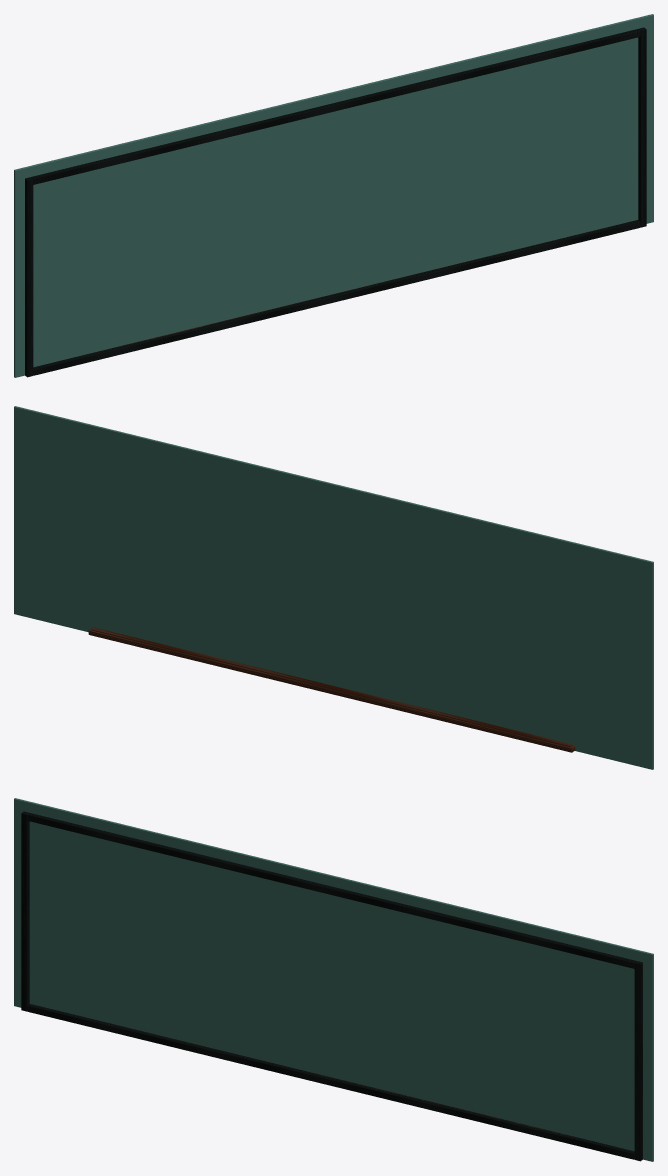
The model's file is giant-screen-surround.glb.
3 views of the same model, one above another, from view 1: azimuth 30°, elevation 25°; view 2: azimuth 150°, elevation 25°; view 3: azimuth 330°, elevation 25° (orthographic).
Parts seen in each view (by area): view 1: Screen_AcousticBacker, Screen_Frame_Top, Screen_Frame_Bottom, Screen_Frame_Left, Screen_Frame_Right; view 2: Screen_AcousticBacker, Screen_Low_Console, Screen_Low_Console_Top; view 3: Screen_AcousticBacker, Screen_Frame_Top, Screen_Frame_Bottom, Screen_Frame_Right, Screen_Frame_Left.
Boxes of the visible parts, box(x1,y1,x2,y2) form: Screen_AcousticBacker: box(14, 14, 653, 377); Screen_Frame_Top: box(31, 29, 640, 184); Screen_Frame_Bottom: box(33, 220, 640, 375); Screen_Frame_Left: box(25, 177, 33, 377); Screen_Frame_Right: box(638, 27, 646, 227); Screen_AcousticBacker: box(14, 406, 653, 769); Screen_Low_Console: box(88, 628, 575, 752); Screen_Low_Console_Top: box(91, 627, 572, 746); Screen_AcousticBacker: box(14, 798, 653, 1161); Screen_Frame_Top: box(27, 813, 636, 968); Screen_Frame_Bottom: box(27, 1004, 634, 1159); Screen_Frame_Right: box(634, 961, 642, 1161); Screen_Frame_Left: box(21, 811, 29, 1011).
Size of the model in its own units: 52.2 by 16.2 by 0.97.
Materials: 4 (3 with a texture image).
